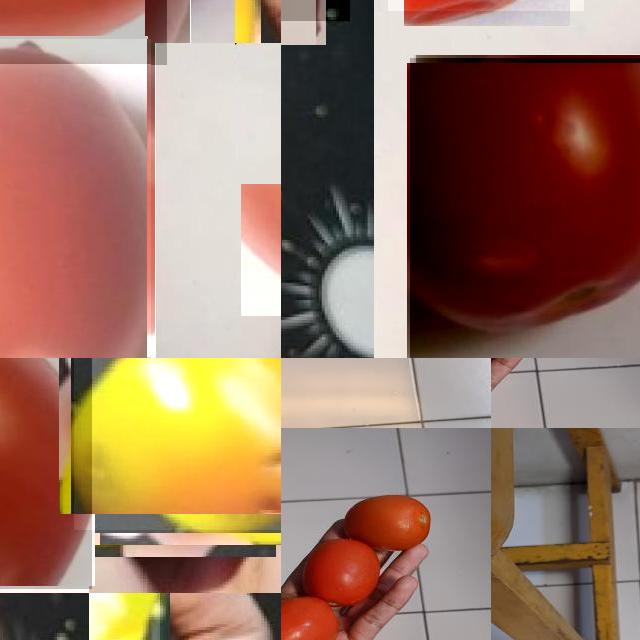0: (410, 58, 640, 358)
Fresh Tomato: (0, 39, 151, 358), (0, 358, 92, 589)
Rotten Tomato: (73, 358, 281, 529)
